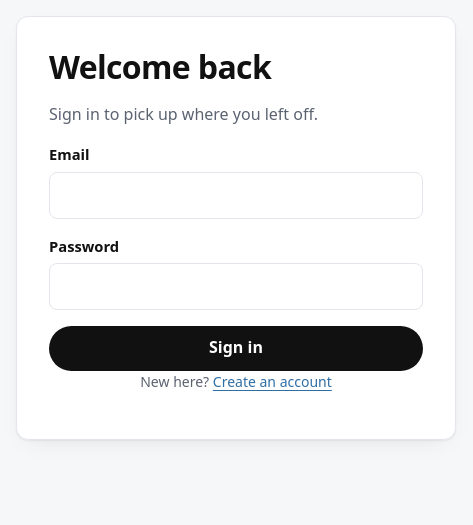
Test case: login › shows the server's message when sign-in fails
The image size is (473, 525).
Type "priya@skillport.dev" into the field labelled "Email" at (236, 195), box [49,172,423,218]
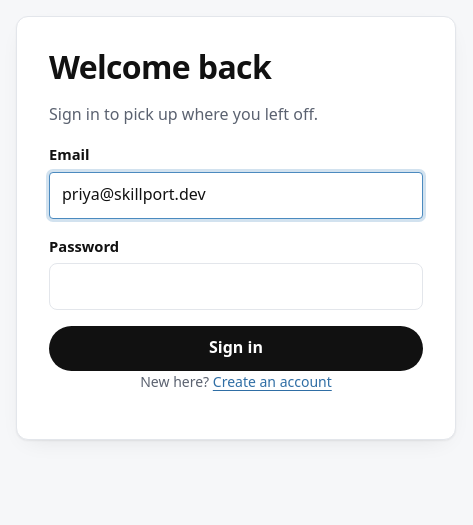
Type "wrong" into the password field labelled "Password" at (236, 286), box [49,263,423,310]
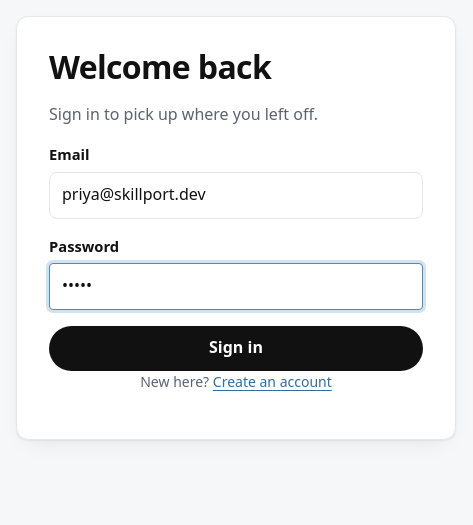
Click the button "Sign in" at (236, 348), box [49,326,423,371]
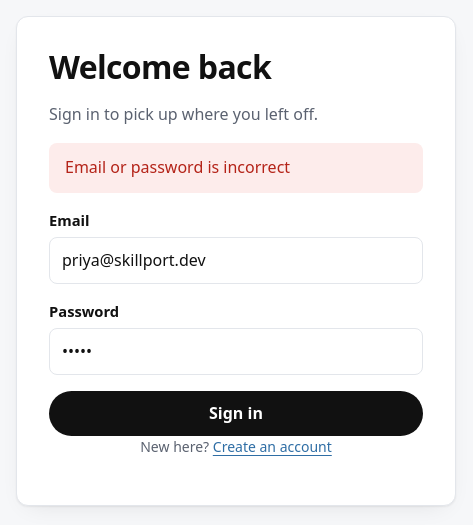
Result: the message reads "Email or password is incorrect" at [65,156,290,178]
